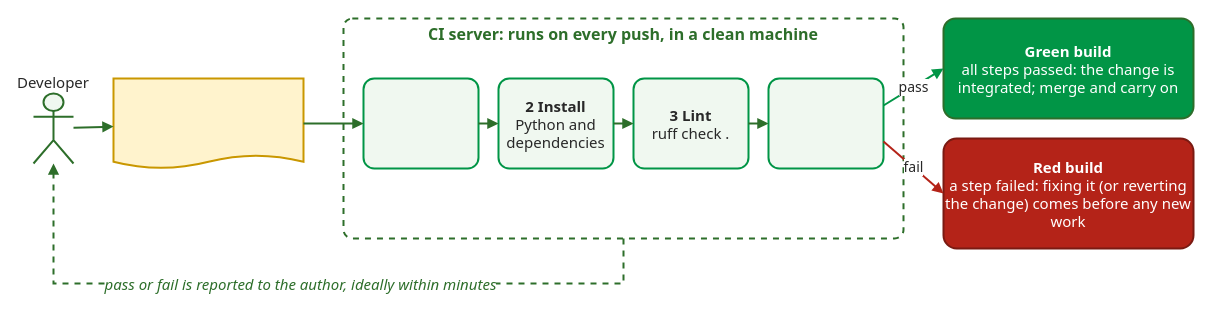
Some shapes in this 1211 by 310 pixel diagram are drawn without their labels. The shapes that lost their labels are listed below. From the top down, each one's box as (x1, y1, x2, y2) in pixels, then its label:
(112, 77, 304, 169): Push small change to the main line (or a pull request)
(362, 77, 479, 169): 1 Check out the commit
(767, 77, 884, 169): 4 Test pytest
